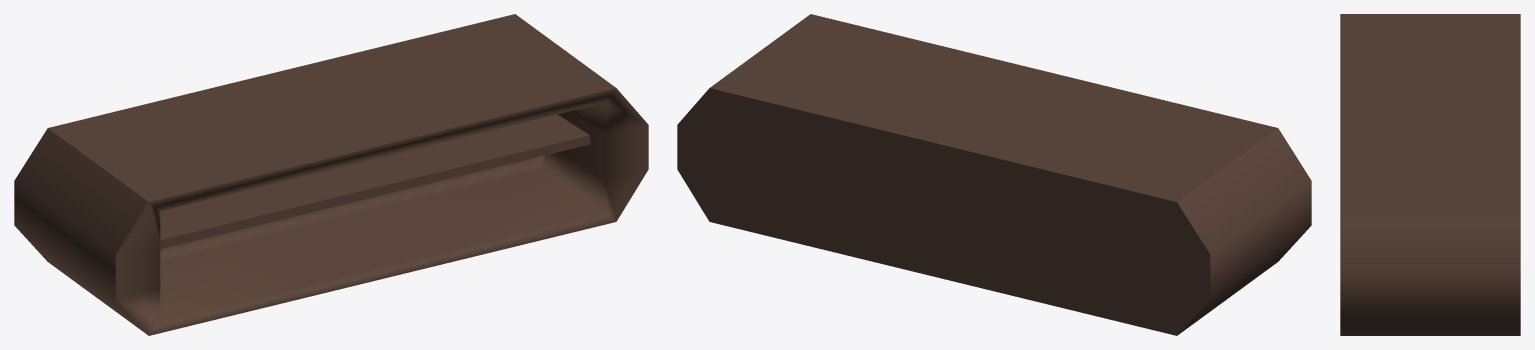
File: TV_TABLE.fbx
The picture shows the model from 3 angles, left to right: view 1: azimuth 30°, elevation 25°; view 2: azimuth 150°, elevation 25°; view 3: azimuth 270°, elevation 25°; orthographic projection. The views are drawn at different scales.
Visible parts, largest first — view 1: TV_stand; view 2: TV_stand; view 3: TV_stand.
Boxes of the visible parts, left/top/right/bottom form: TV_stand: left=14, top=14, right=648, bottom=335; TV_stand: left=677, top=14, right=1311, bottom=335; TV_stand: left=1340, top=14, right=1520, bottom=335.
Bounding box in the file's own units: 3.04 × 0.7295 × 1.
